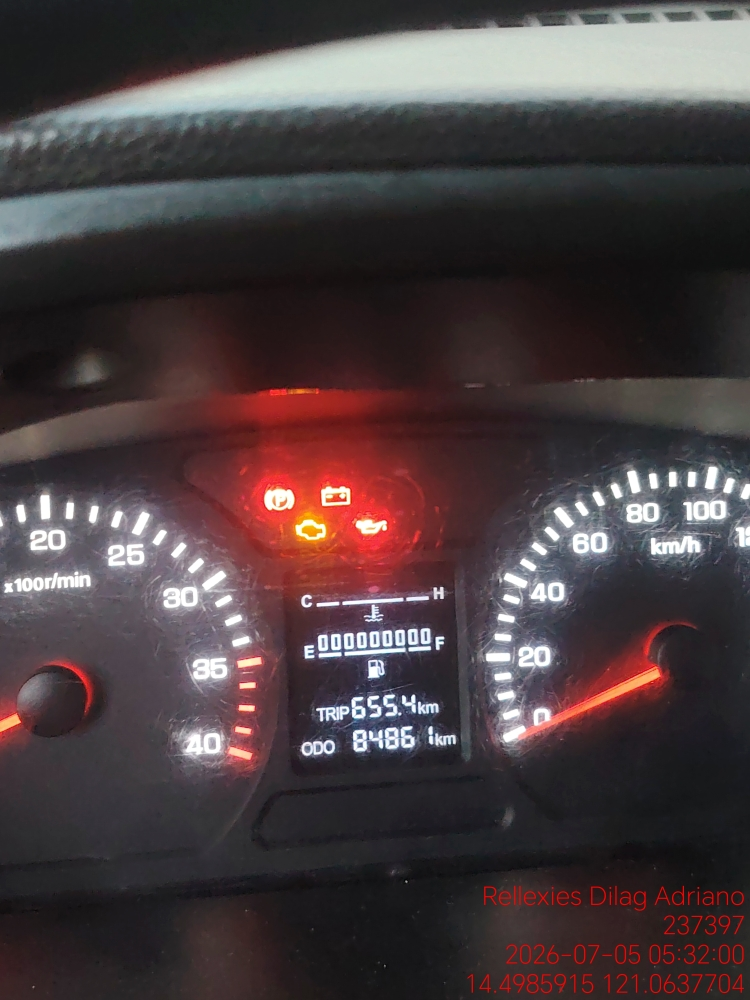grid_pose: (175, 71, 430, 656)
